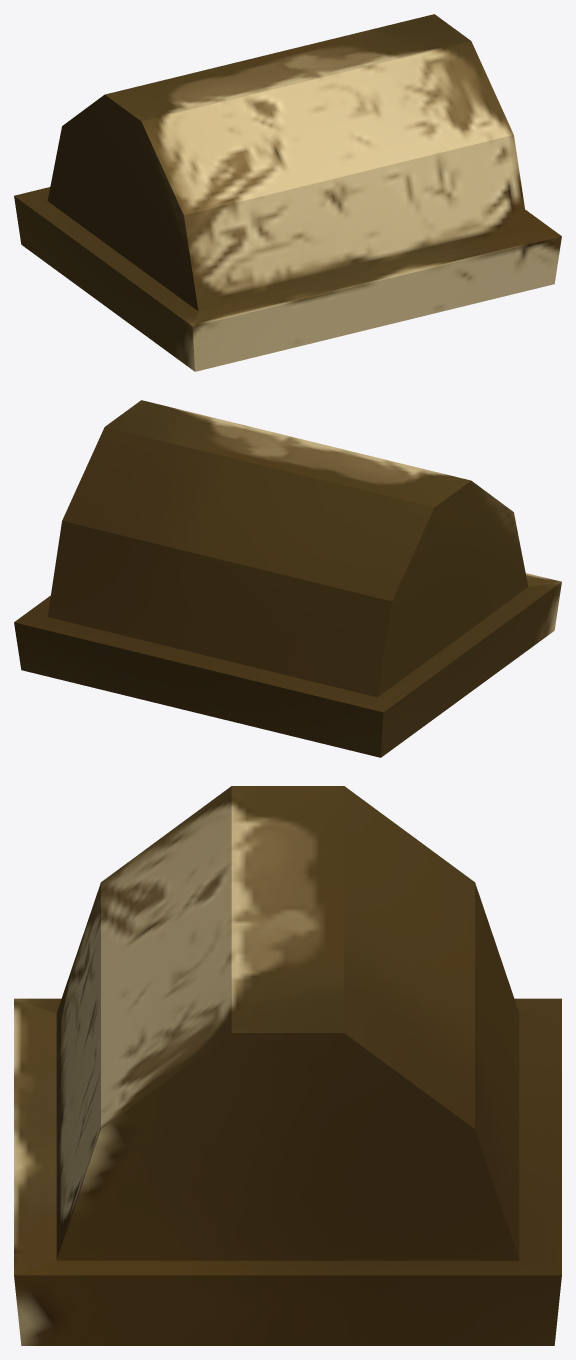
Rendered from Rome_Village_Props_18.FBX.
3 views of the same model, one above another, from view 1: azimuth 30°, elevation 25°; view 2: azimuth 150°, elevation 25°; view 3: azimuth 270°, elevation 25° (orthographic). The views are drawn at different scales.
Visible parts, largest first — view 1: Rome_Village_Props_18; view 2: Rome_Village_Props_18; view 3: Rome_Village_Props_18.
Boxes of the visible parts, x1,y1,x2,y2 form: Rome_Village_Props_18: (14,14,561,371); Rome_Village_Props_18: (14,400,561,757); Rome_Village_Props_18: (14,786,561,1345).
Bounding box in the file's own units: 54.7 × 27.82 × 45.79.
